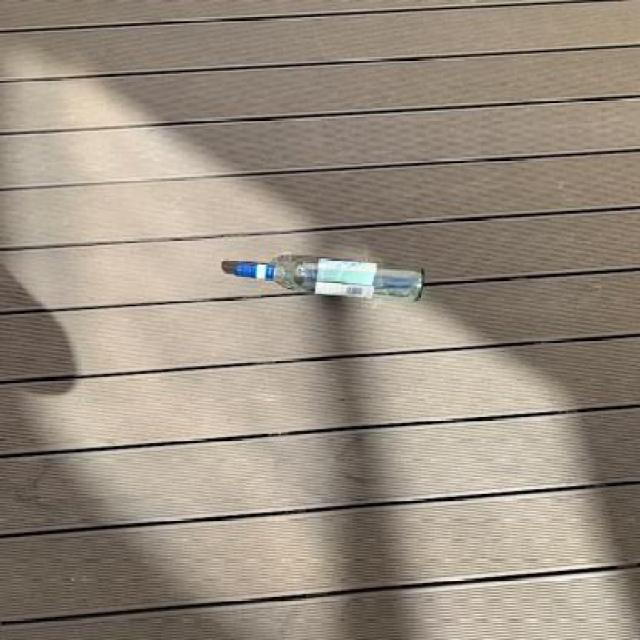trash: (233, 249, 424, 311)
